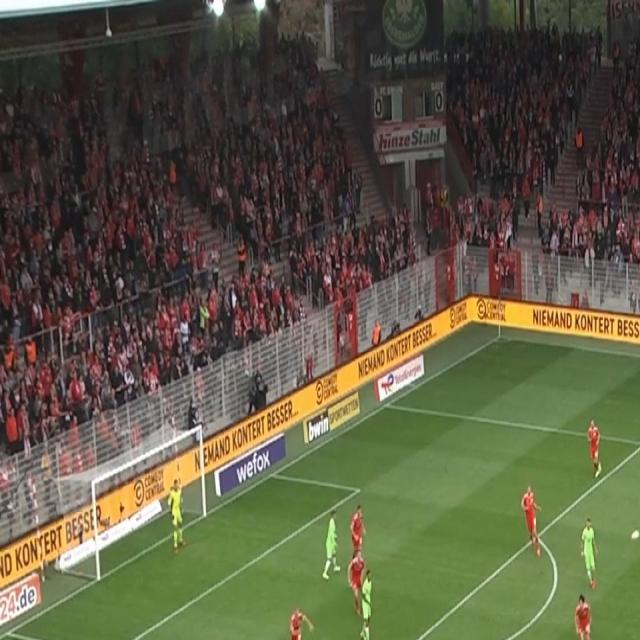ball: (630, 528, 640, 542)
